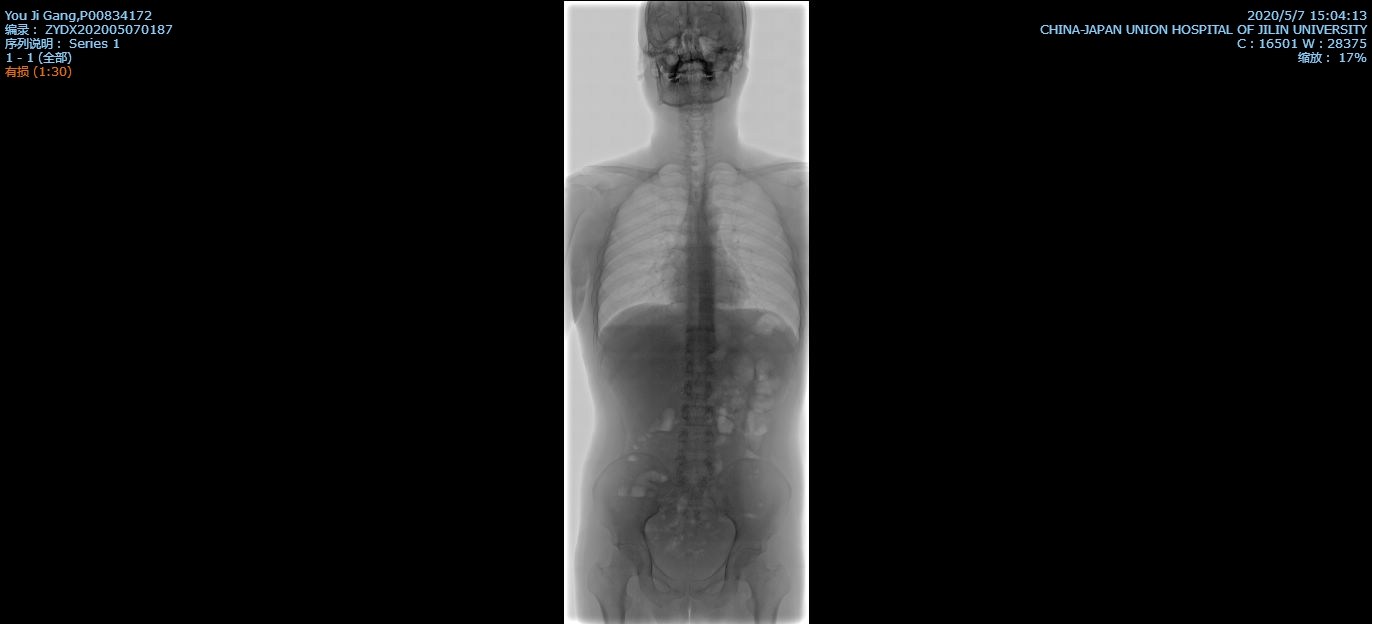Bone: (681, 429, 712, 449), (683, 405, 713, 425), (681, 458, 711, 477), (685, 335, 716, 353), (685, 381, 712, 398), (686, 361, 713, 376), (687, 297, 713, 311), (688, 279, 713, 293), (687, 263, 712, 277), (688, 317, 714, 330), (689, 247, 712, 261)
